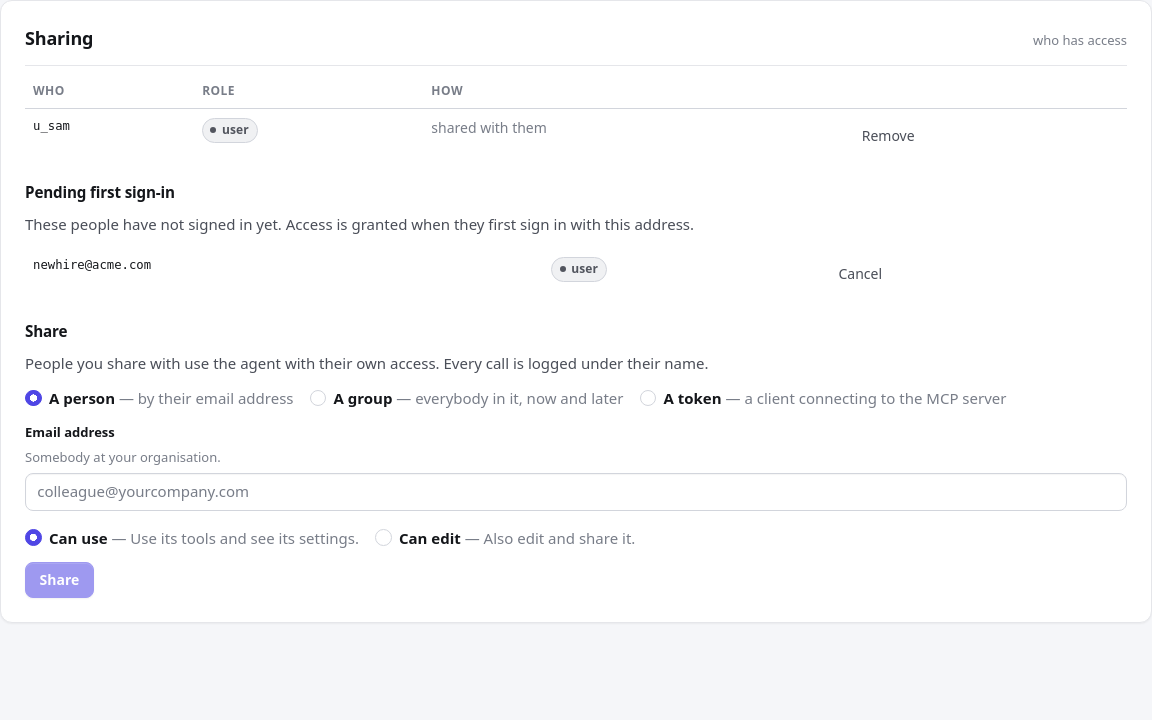
Test: how somebody has access › renders the server's refusal when a revoke would have changed nothing
The image size is (1152, 720).
What coordinates should you click on to do the following:
click the button "Remove"
I would click on:
 (888, 136)
Its box is x1=852 y1=118 x2=924 y2=154.
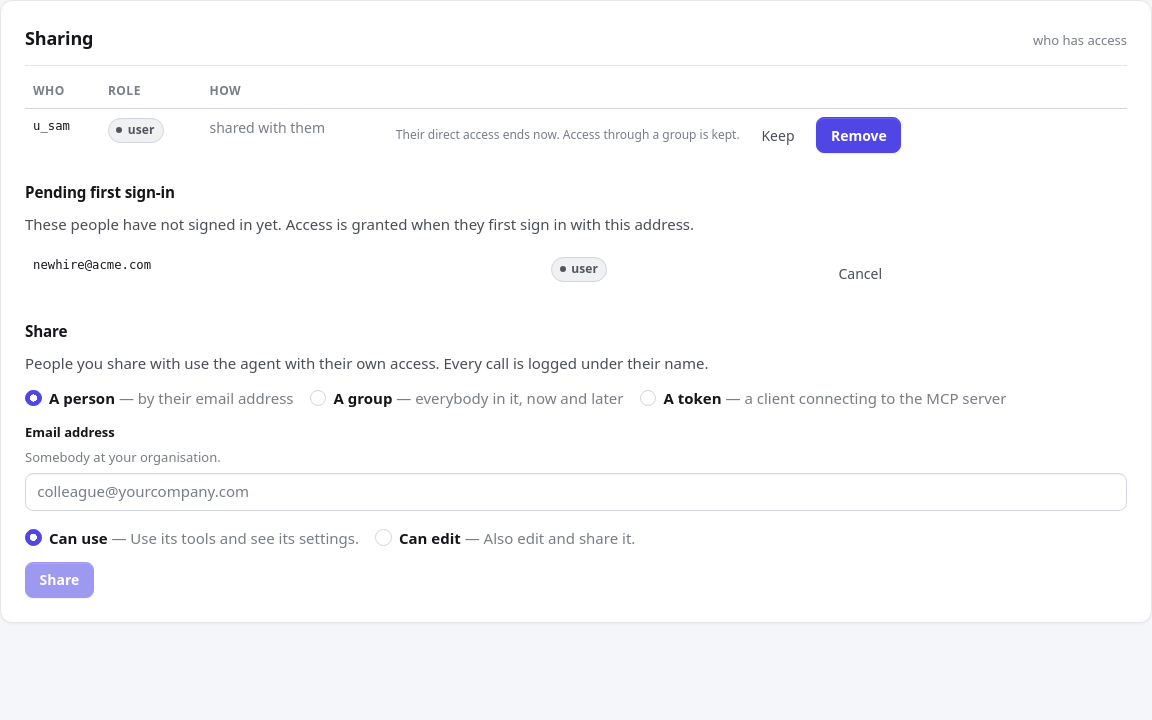
What coordinates should you click on to do the following:
click the button "Remove"
I would click on:
 (859, 136)
Its box is x1=816 y1=118 x2=901 y2=154.
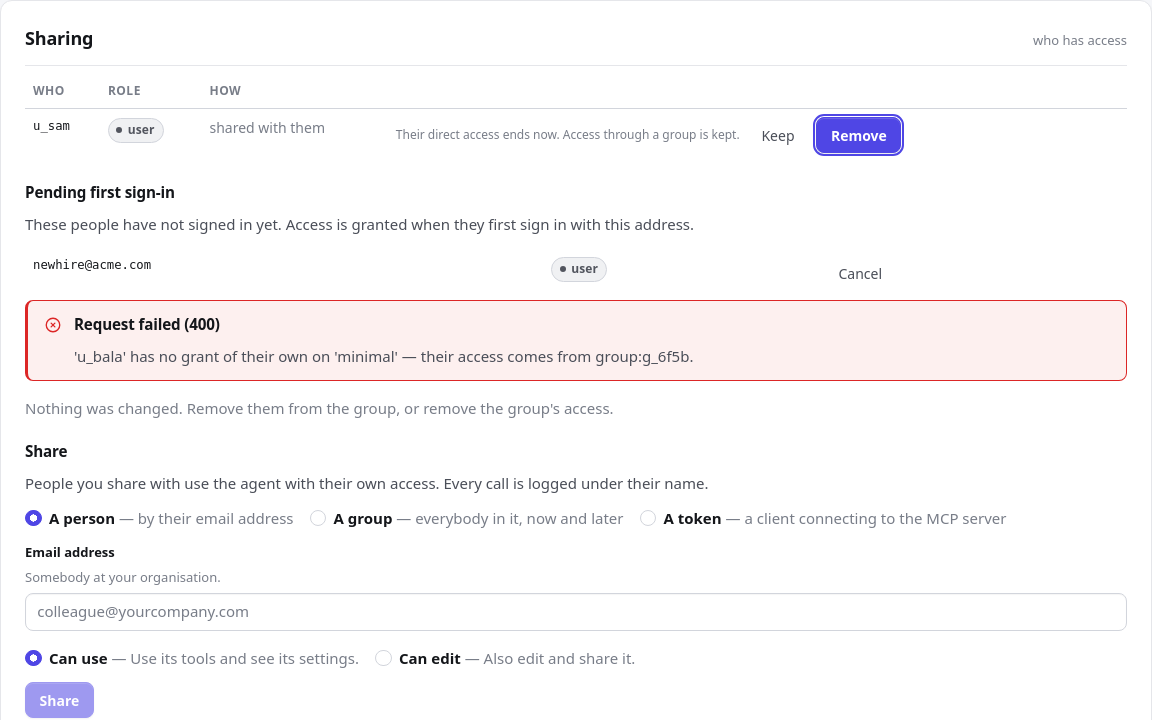
Now the text "their access comes from" is shown, box x1=74 y1=346 x2=693 y2=366
Now the text "Nothing was changed" is shown, box x1=25 y1=398 x2=614 y2=418
